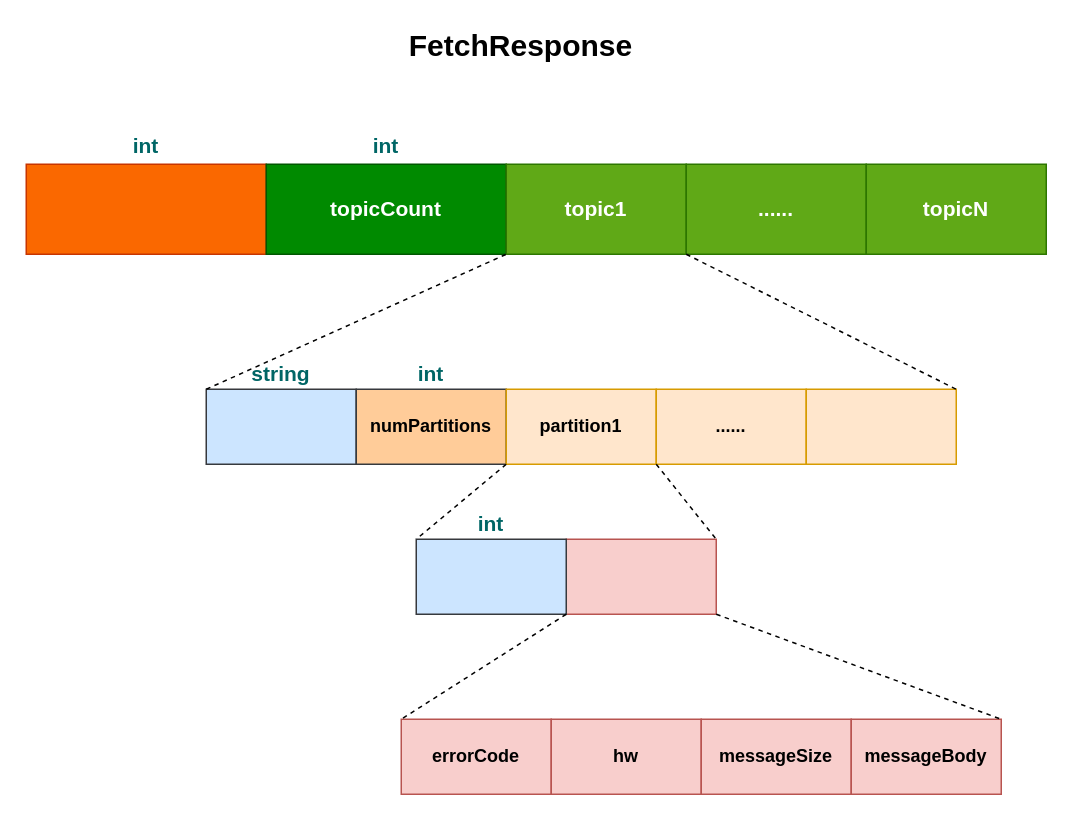
Image size: 1073x821. Some labels were removed from this diagram. Here are the shapes that lost their labels. From the top down, the centre of each, then its label:
the point at 145,208: correlationId
the point at 280,426: topicName
the point at 880,426: partitionN
the point at 490,576: partitionId
the point at 640,576: partitionData
